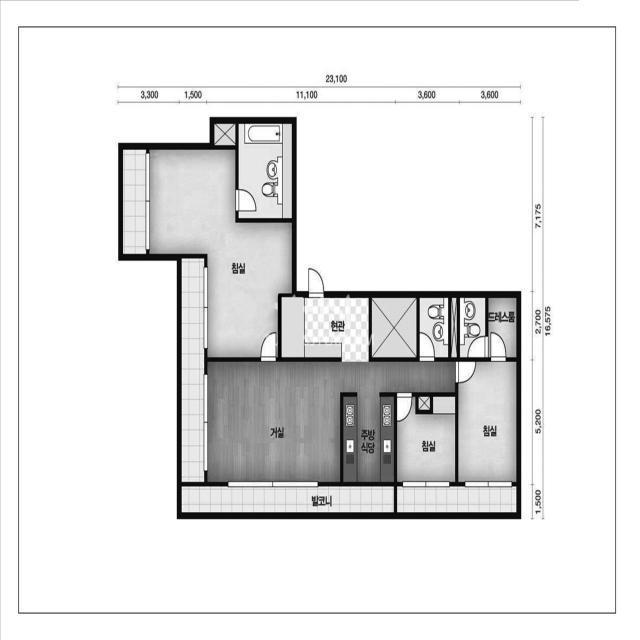space_balconi: (182, 486, 394, 513), (182, 258, 204, 482), (397, 486, 516, 513), (123, 150, 146, 254)
space_bedroom: (149, 150, 292, 357), (458, 362, 516, 482), (397, 397, 455, 482)
space_dressroom: (489, 298, 516, 357)
space_front: (282, 297, 369, 358)
space_kitchen: (343, 397, 394, 482)
space_living_room: (207, 361, 455, 482)
space_other: (372, 298, 416, 358), (214, 124, 236, 145)
space_toilet: (239, 124, 292, 219), (420, 298, 448, 357), (460, 298, 485, 357)
